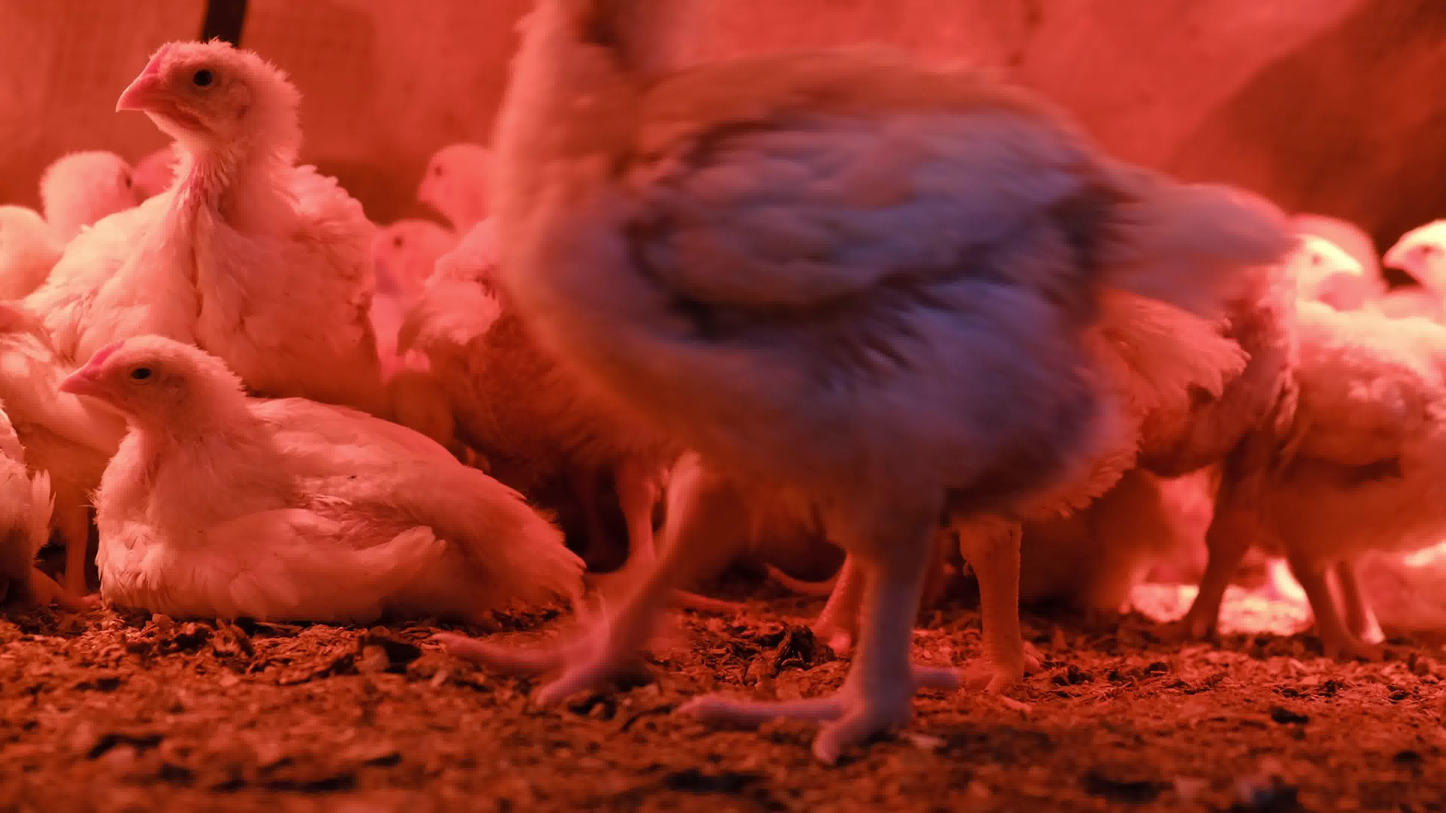AbNormal: (53, 322, 578, 642), (0, 290, 124, 640)
Normal: (486, 0, 1297, 764), (100, 34, 433, 359), (1233, 175, 1446, 666), (0, 130, 94, 329), (1243, 201, 1359, 348), (401, 120, 538, 237), (117, 139, 252, 250), (356, 179, 458, 324), (32, 126, 147, 226)
